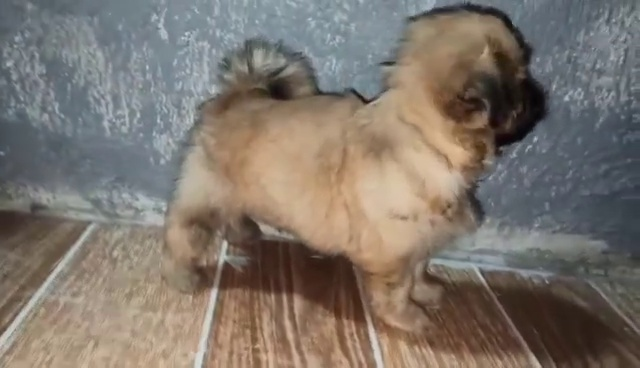dog: (166, 1, 546, 348)
